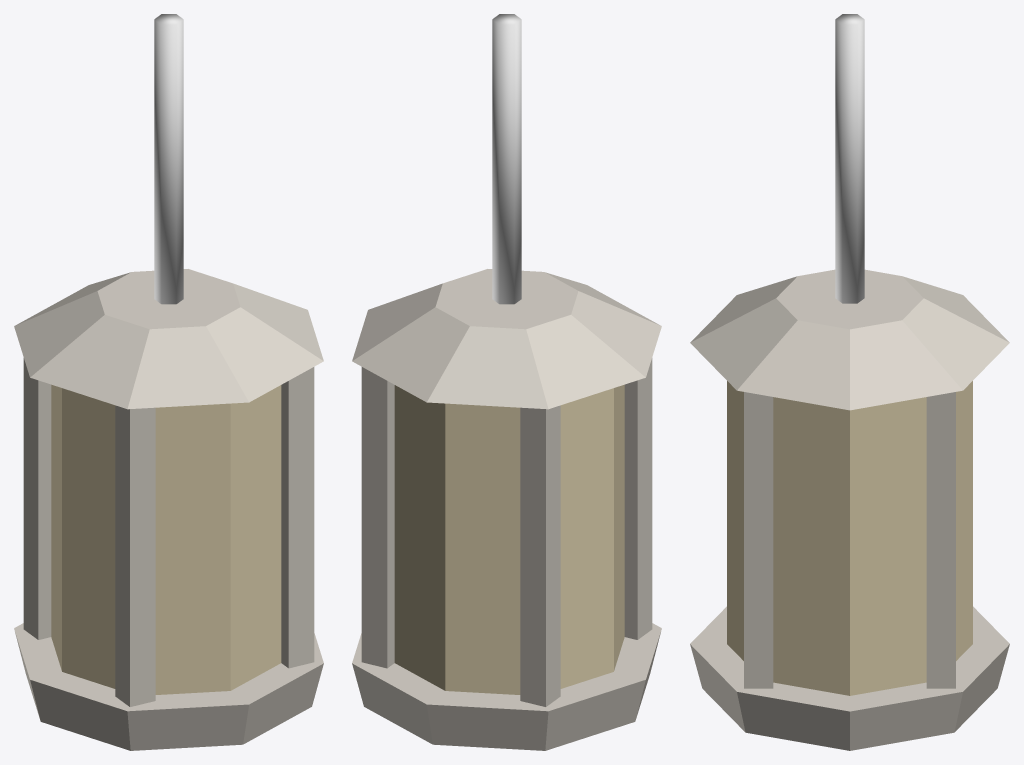
The model's file is marble_lantern_v0.glb.
3 views of the same model, side by side, from view 1: azimuth 30°, elevation 25°; view 2: azimuth 150°, elevation 25°; view 3: azimuth 270°, elevation 25° (orthographic).
Visible parts, largest first — view 1: marble_lantern_v0; view 2: marble_lantern_v0; view 3: marble_lantern_v0.
Part boxes in pixels (x1=…): marble_lantern_v0: x1=14, y1=14, x2=323, y2=750; marble_lantern_v0: x1=352, y1=14, x2=661, y2=750; marble_lantern_v0: x1=690, y1=14, x2=1009, y2=750.
Size of the model in its own units: 0.26 by 0.6 by 0.26.
